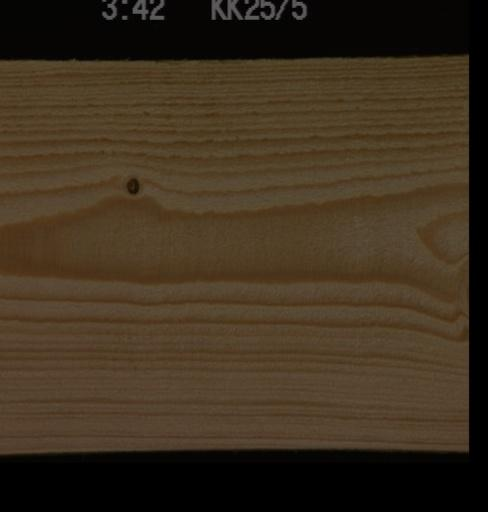dry_knot: (123, 173, 140, 194)
